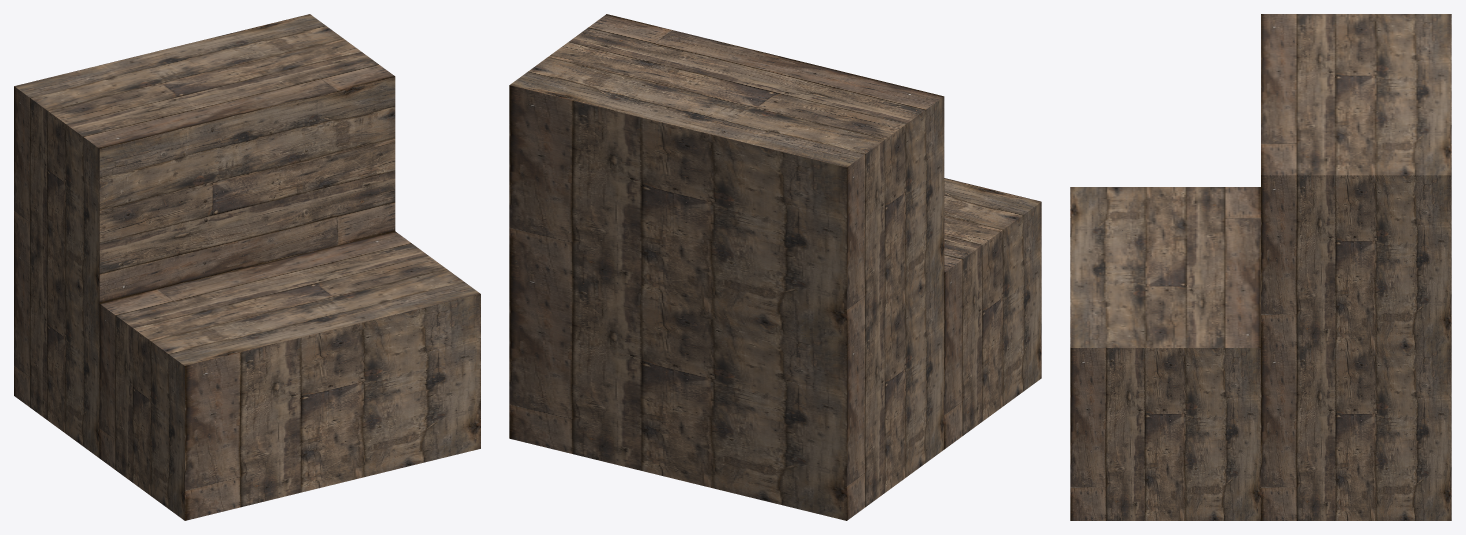
File: stairs.fbx
The picture shows the model from 3 angles, left to right: view 1: azimuth 30°, elevation 25°; view 2: azimuth 150°, elevation 25°; view 3: azimuth 270°, elevation 25°; orthographic projection. The views are drawn at different scales.
Visible parts, largest first — view 1: Cube.002; view 2: Cube.002; view 3: Cube.002.
Part boxes in pixels (x1,y1,x2,y2): Cube.002: [14, 14, 480, 520]; Cube.002: [509, 14, 1041, 520]; Cube.002: [1070, 14, 1451, 520].
Bounding box in the file's own units: 100 × 100 × 100.
